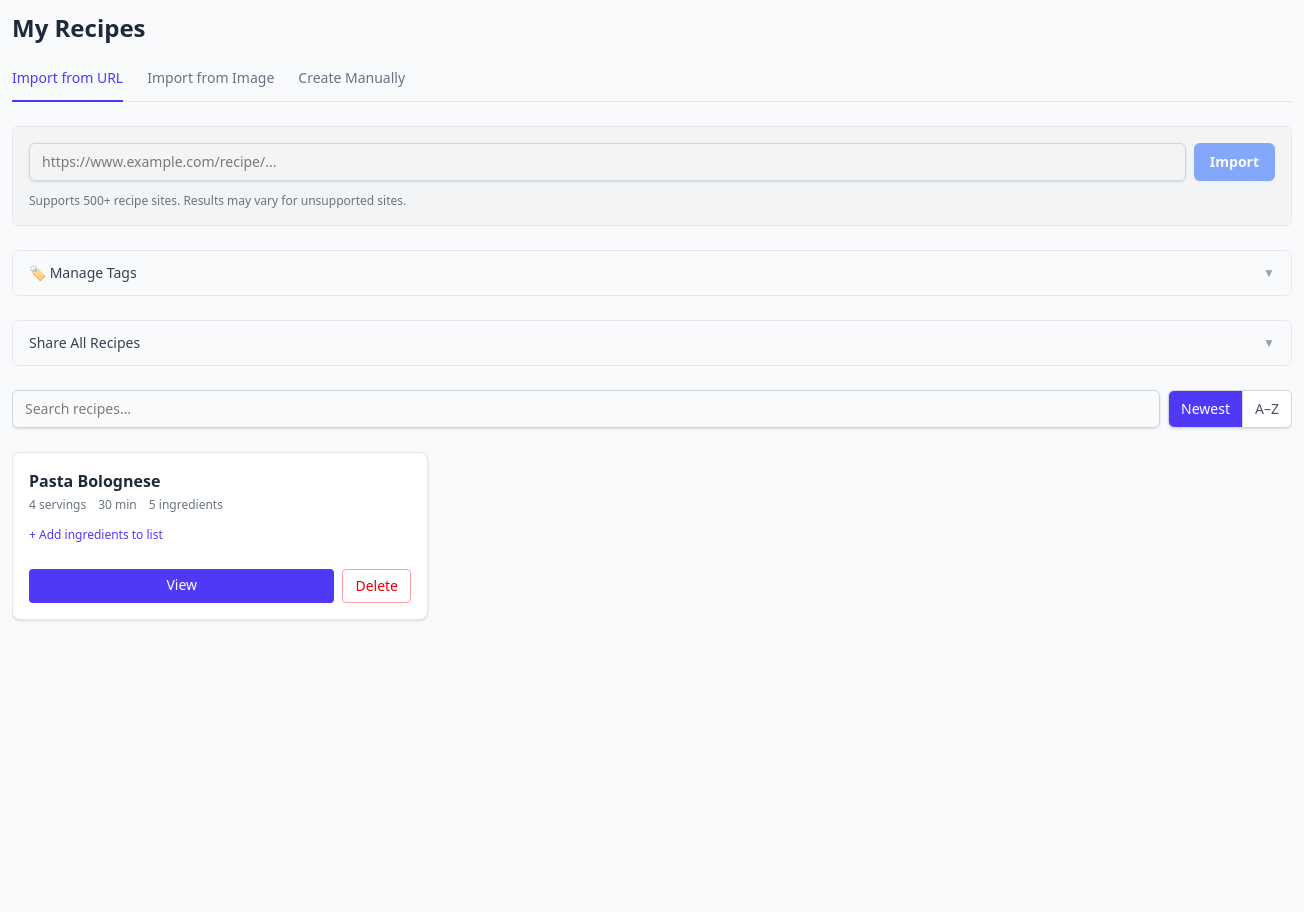
Scenario: RecipesPage › import form submits and prepends recipe to list
Expected: the heading "Pasta Bolognese" is shown, [29,470,160,492]
Step 1. Type "https://example.com/recipe" into the field with placeholder "https://www.example.com/recipe/..." → (607, 162), box [29,143,1186,181]
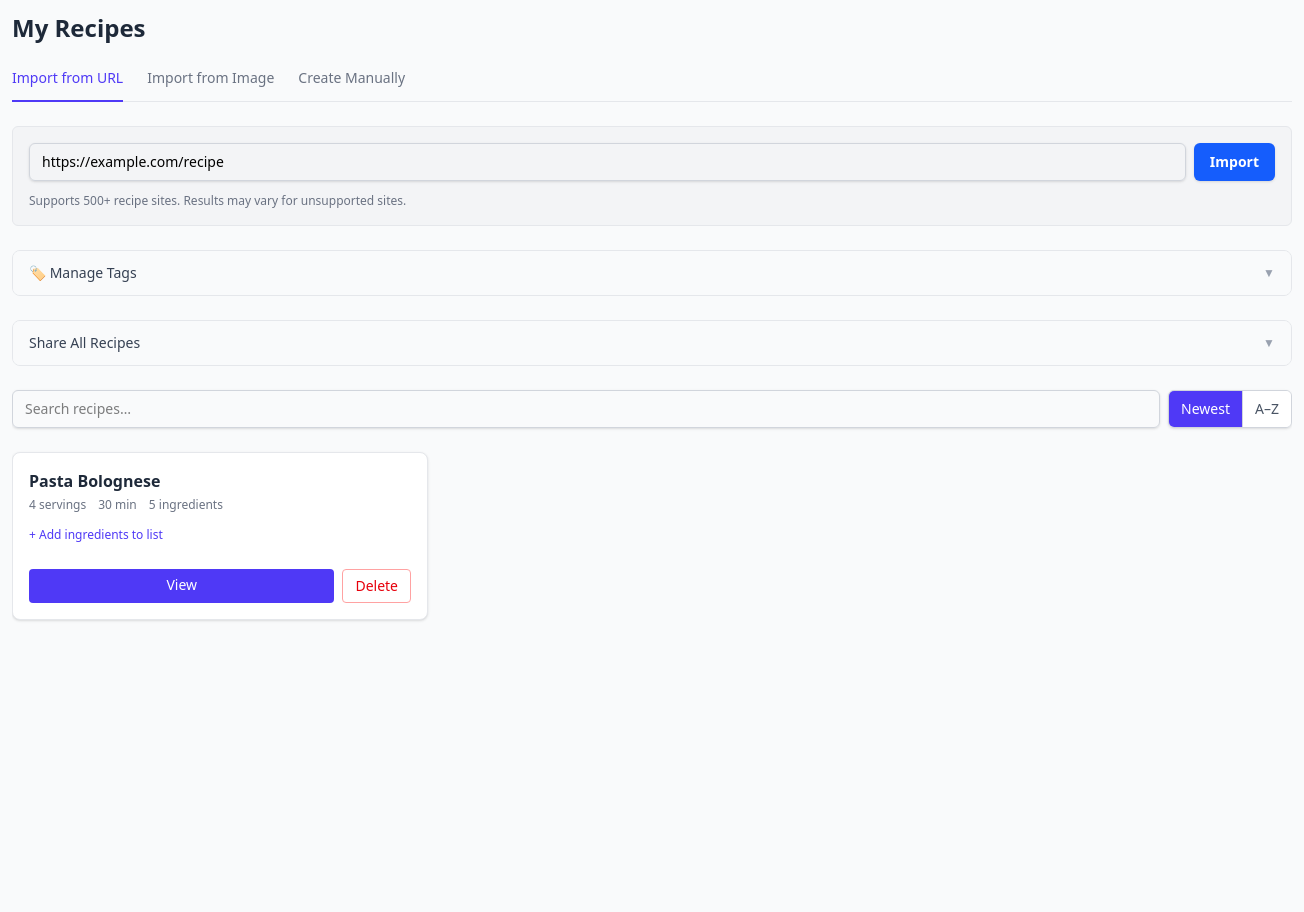
Step 2. Click the button "Import" → (1234, 162), box [1194,143,1275,181]
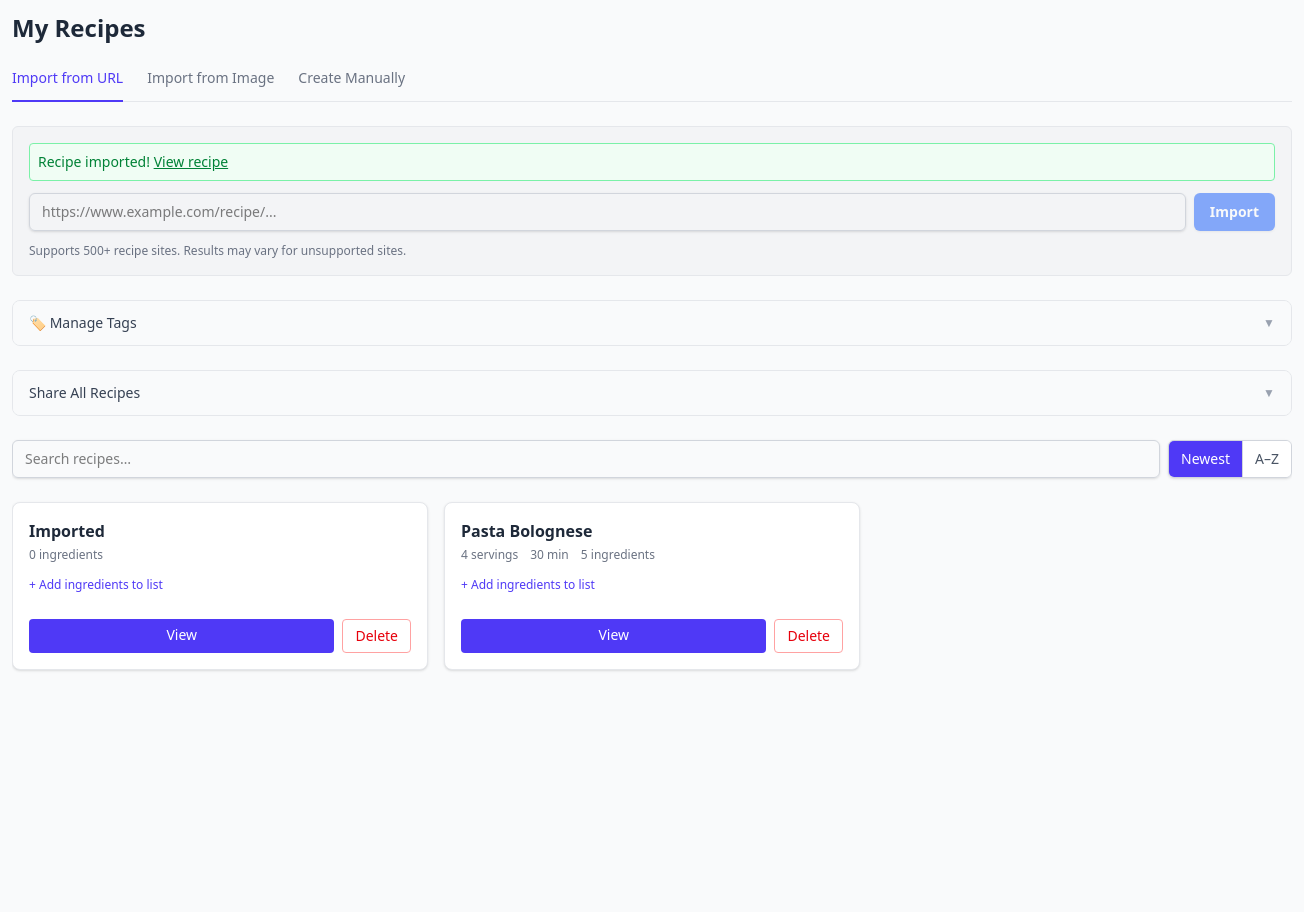
Expected: the heading "Imported" is shown, [29,520,105,542]
